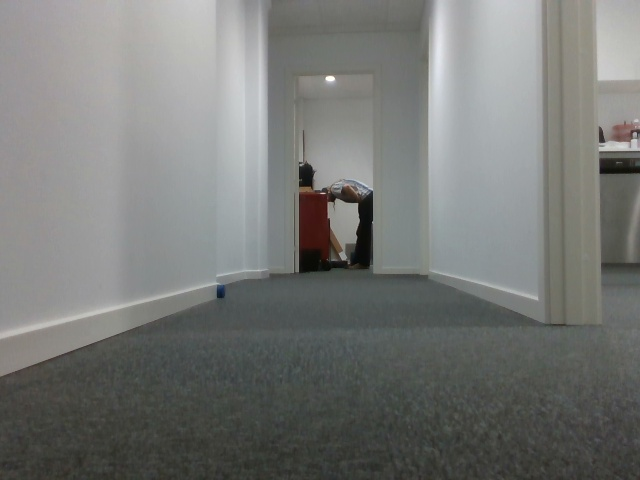alfa: (214, 282, 228, 299)
